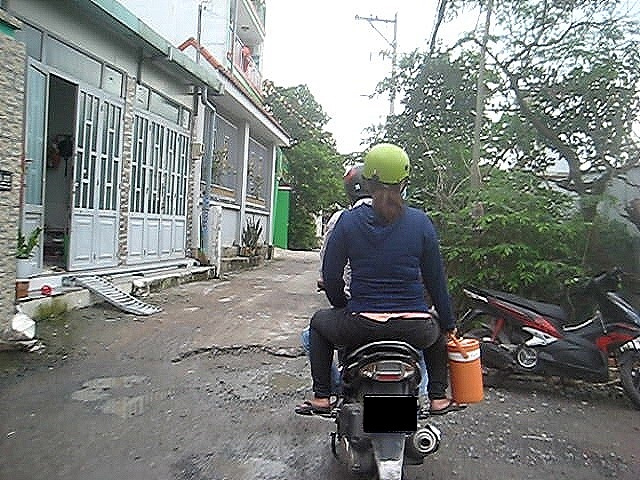hole: (179, 341, 309, 398), (171, 443, 303, 480), (94, 385, 197, 422), (80, 371, 150, 389), (69, 391, 114, 402)
